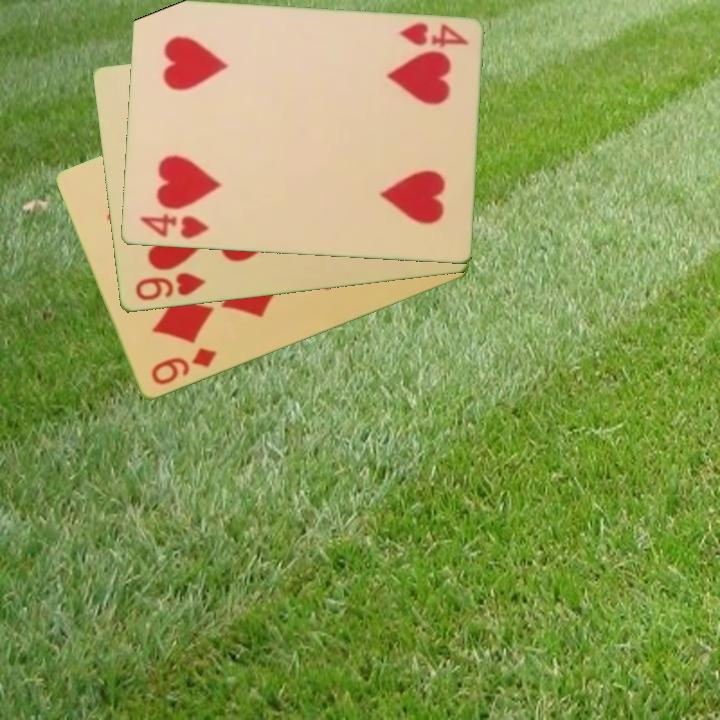4h: (136, 210, 211, 242), (395, 20, 471, 50)
9d: (147, 344, 220, 389)
9h: (131, 269, 208, 304)
